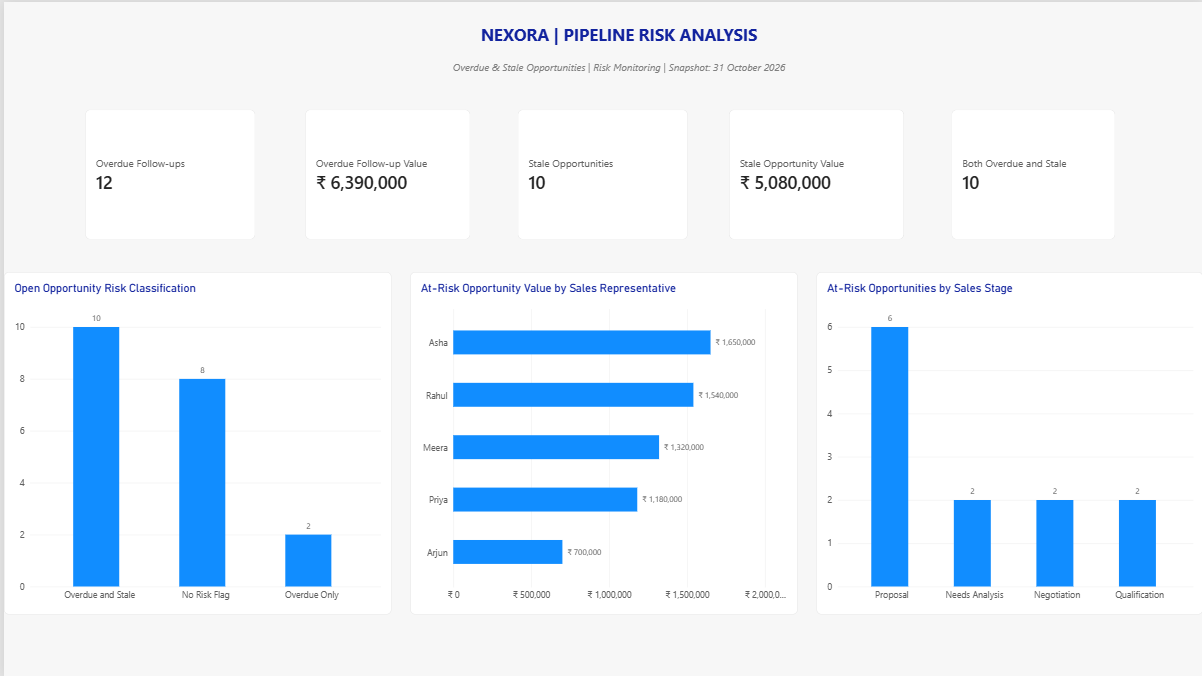

The page's visual inventory and layout, read from the dashboard file:
{"tool":"powerbi","page":{"name":"Pipeline Risk Analysis","canvas":[1920,1080],"ordinal":1},"visuals":[{"type":"textbox","box":[112,34,1744,38],"z":0},{"type":"textbox","box":[112,92,1744,38],"z":1000},{"type":"cardVisual","fields":{"Data":["CountNonNull(Nexora_Sales_Dataset.Opportunity_ID)"]},"box":[130,172,272,208],"z":2000},{"type":"cardVisual","fields":{"Data":["Sum(Nexora_Sales_Dataset.Opportunity_Amount)"]},"box":[482,172,264,208],"z":3000},{"type":"cardVisual","fields":{"Data":["CountNonNull(Nexora_Sales_Dataset.Opportunity_ID)"]},"box":[822,172,272,208],"z":4000},{"type":"cardVisual","fields":{"Data":["Sum(Nexora_Sales_Dataset.Opportunity_Amount)"]},"box":[1160,172,280,208],"z":5000},{"type":"cardVisual","fields":{"Data":["CountNonNull(Nexora_Sales_Dataset.Opportunity_ID)"]},"box":[1516,172,262,208],"z":6000},{"type":"clusteredColumnChart","title":"Open Opportunity Risk Classification","fields":{"Category":["Nexora_Sales_Dataset.Risk_Classification"],"Y":["CountNonNull(Nexora_Sales_Dataset.Opportunity_ID)"]},"box":[0,432,620,548],"z":7000},{"type":"clusteredBarChart","title":"At-Risk Opportunity Value by Sales Representative","fields":{"Category":["Nexora_Sales_Dataset.Sales_Representative"],"Y":["Sum(Nexora_Sales_Dataset.Opportunity_Amount)"]},"box":[650,432,620,548],"z":7001},{"type":"clusteredColumnChart","title":"At-Risk Opportunities by Sales Stage","fields":{"Category":["Nexora_Sales_Dataset.Opportunity_Stage"],"Y":["CountNonNull(Nexora_Sales_Dataset.Opportunity_ID)"]},"box":[1300,432,620,548],"z":7002}]}

Visuals, with their boxes in screenshot pixels (x1, y1, x2, y2), scaled from the page's 1920x1080 canvas onto the 1202x676 screenshot:
textbox: <box>70,21,1162,45</box>
textbox: <box>70,58,1162,81</box>
cardVisual - CountNonNull(Nexora_Sales_Dataset.Opportunity_ID): <box>81,108,252,238</box>
cardVisual - Sum(Nexora_Sales_Dataset.Opportunity_Amount): <box>302,108,467,238</box>
cardVisual - CountNonNull(Nexora_Sales_Dataset.Opportunity_ID): <box>515,108,685,238</box>
cardVisual - Sum(Nexora_Sales_Dataset.Opportunity_Amount): <box>726,108,902,238</box>
cardVisual - CountNonNull(Nexora_Sales_Dataset.Opportunity_ID): <box>949,108,1113,238</box>
"Open Opportunity Risk Classification" clusteredColumnChart: <box>0,270,388,613</box>
"At-Risk Opportunity Value by Sales Representative" clusteredBarChart: <box>407,270,795,613</box>
"At-Risk Opportunities by Sales Stage" clusteredColumnChart: <box>814,270,1201,613</box>
